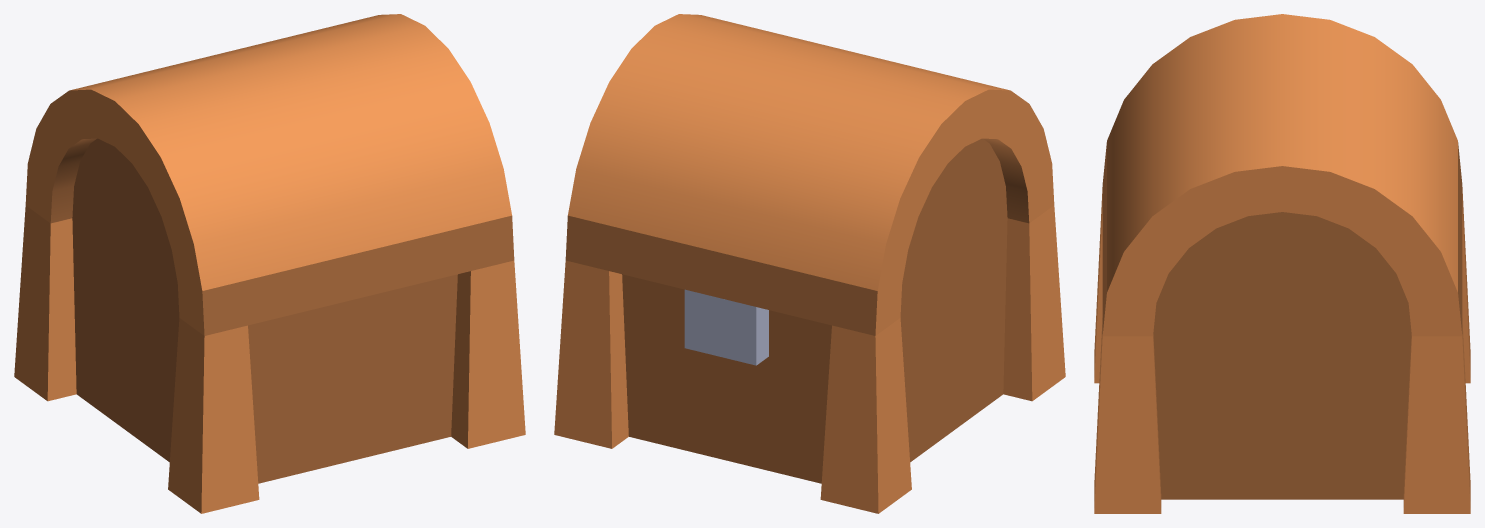
Rendered from chest.dae.
3 renders of one model, left to right at view 1: azimuth 30°, elevation 25°; view 2: azimuth 150°, elevation 25°; view 3: azimuth 270°, elevation 25°, orthographic.
Visible parts, largest first — view 1: lid, chest; view 2: lid, chest; view 3: lid, chest.
Part boxes in pixels (x1=…): lid: x1=25, y1=14, x2=514, y2=335; chest: x1=14, y1=205, x2=525, y2=513; lid: x1=565, y1=14, x2=1054, y2=335; chest: x1=554, y1=205, x2=1065, y2=513; lid: x1=1102, y1=14, x2=1462, y2=336; chest: x1=1094, y1=187, x2=1470, y2=513.
Size of the model in its own units: 0.2604 by 0.2628 by 0.2604.
